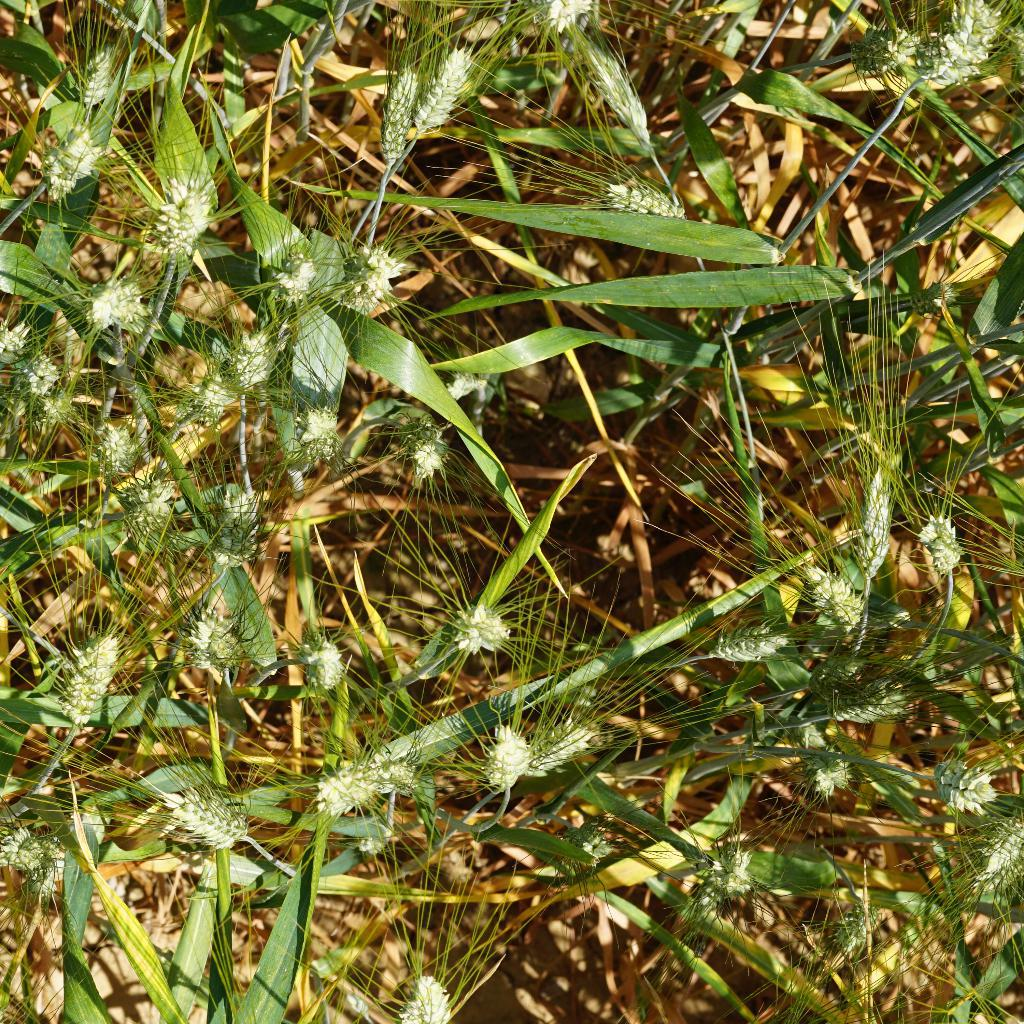0-0: (562, 22, 658, 159), (307, 747, 422, 827), (143, 778, 260, 855), (908, 0, 1006, 88), (57, 621, 132, 734), (408, 36, 485, 139), (513, 704, 605, 780), (326, 237, 410, 317), (202, 480, 267, 582), (33, 120, 107, 208), (146, 174, 215, 268), (852, 455, 903, 579), (795, 640, 897, 699), (820, 672, 929, 727), (588, 169, 693, 225), (694, 828, 757, 921), (794, 558, 866, 639), (960, 811, 1024, 899), (173, 606, 247, 681), (377, 57, 424, 172), (475, 717, 536, 804), (922, 752, 1002, 817), (702, 618, 799, 669), (214, 322, 275, 401), (847, 15, 922, 76), (77, 273, 145, 340), (0, 818, 64, 888), (287, 396, 346, 471), (112, 470, 179, 536), (820, 890, 880, 963), (178, 366, 244, 431), (394, 405, 442, 493), (291, 628, 351, 696), (445, 603, 518, 655), (555, 821, 623, 876), (397, 966, 457, 1024), (73, 38, 120, 111), (87, 420, 136, 489), (754, 708, 832, 750), (794, 742, 855, 795), (917, 508, 963, 578), (263, 248, 320, 304), (902, 275, 972, 320), (24, 382, 77, 436), (0, 315, 37, 385), (15, 346, 64, 396), (438, 363, 488, 399), (353, 833, 386, 856)
